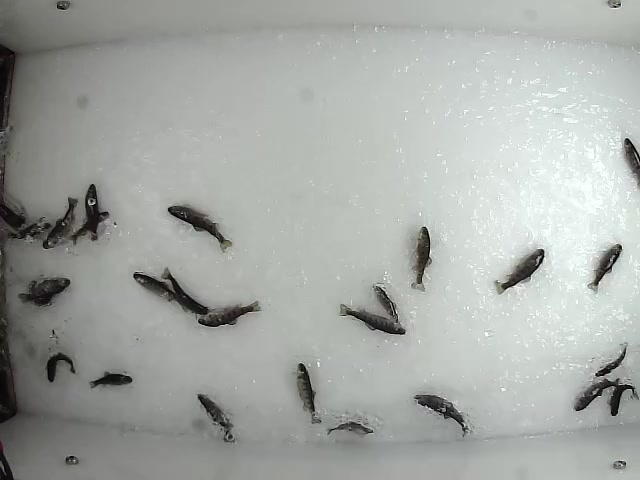fish: (164, 204, 233, 254), (157, 263, 214, 319), (411, 390, 472, 436), (493, 246, 545, 296), (339, 301, 407, 338), (289, 360, 322, 429), (194, 391, 237, 443), (43, 195, 82, 249), (196, 299, 262, 328), (14, 276, 74, 307), (587, 241, 621, 294), (130, 271, 180, 306), (407, 226, 432, 293), (69, 208, 112, 246), (370, 281, 399, 327), (44, 350, 78, 382), (87, 368, 134, 391), (622, 135, 640, 192), (323, 418, 374, 437), (85, 182, 99, 242)
